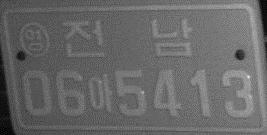0: (22, 68, 53, 118)
1: (186, 69, 217, 118)
3: (220, 68, 255, 119)
4: (152, 70, 183, 115)
5: (114, 69, 146, 117)
6: (55, 68, 85, 118)
아: (87, 71, 113, 112)
영: (18, 21, 51, 59)
전남_D: (62, 18, 193, 58)
